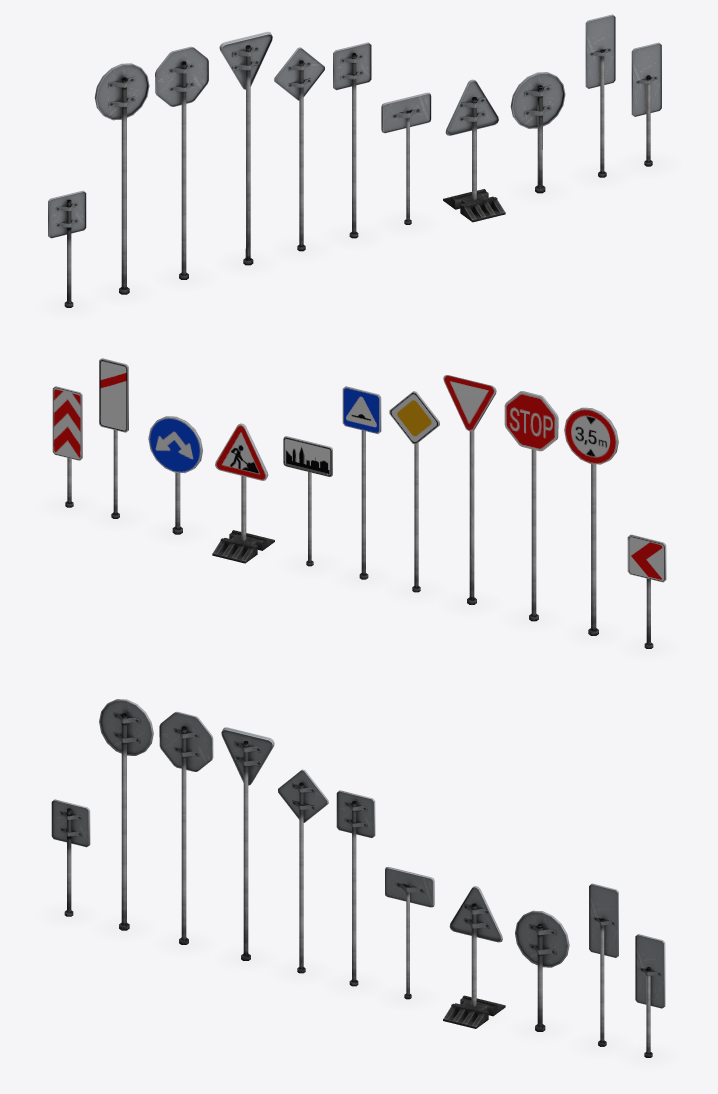
File: road_signs.glb
The picture shows the model from 3 angles, top to bottom: view 1: azimuth 30°, elevation 25°; view 2: azimuth 150°, elevation 25°; view 3: azimuth 330°, elevation 25°; orthographic projection.
Visible parts, largest first — view 1: Priority_Stop_LOD0, Prohibition_MaximumHeight_LOD0, WarningTemporary_RoadWorks_LOD0, MandatorySmall_BothSides_LOD0, Priority_GiveWay_LOD0, Warning_DistanceMarker1_LOD0, Warning_ObstacleMiddle_LOD0, Informational_Bump_LOD0, Priority_MainRoad_LOD0, LocalSigns_CityArea_LOD0, Warning_TurnLeft_LOD0, Plane.004 (+9 smaller); view 2: Priority_Stop_LOD0, Prohibition_MaximumHeight_LOD0, WarningTemporary_RoadWorks_LOD0, MandatorySmall_BothSides_LOD0, Priority_GiveWay_LOD0, Warning_DistanceMarker1_LOD0, Warning_ObstacleMiddle_LOD0, Informational_Bump_LOD0, Priority_MainRoad_LOD0, Warning_TurnLeft_LOD0, LocalSigns_CityArea_LOD0, Plane.004 (+9 smaller); view 3: Priority_Stop_LOD0, Prohibition_MaximumHeight_LOD0, WarningTemporary_RoadWorks_LOD0, Priority_GiveWay_LOD0, MandatorySmall_BothSides_LOD0, Warning_DistanceMarker1_LOD0, Warning_ObstacleMiddle_LOD0, Informational_Bump_LOD0, Priority_MainRoad_LOD0, Warning_TurnLeft_LOD0, LocalSigns_CityArea_LOD0, Plane.004.
Part boxes in pixels (bbox=[...]): Priority_Stop_LOD0: bbox=[155, 46, 208, 279]; Prohibition_MaximumHeight_LOD0: bbox=[94, 63, 149, 294]; WarningTemporary_RoadWorks_LOD0: bbox=[443, 79, 505, 222]; MandatorySmall_BothSides_LOD0: bbox=[510, 72, 565, 193]; Priority_GiveWay_LOD0: bbox=[219, 31, 272, 265]; Warning_DistanceMarker1_LOD0: bbox=[585, 14, 615, 177]; Warning_ObstacleMiddle_LOD0: bbox=[631, 42, 661, 166]; Informational_Bump_LOD0: bbox=[333, 42, 371, 238]; Priority_MainRoad_LOD0: bbox=[274, 47, 324, 251]; LocalSigns_CityArea_LOD0: bbox=[381, 92, 431, 224]; Warning_TurnLeft_LOD0: bbox=[48, 190, 86, 307]; Plane.004: bbox=[385, 215, 428, 232]; Priority_Stop_LOD0: bbox=[504, 391, 558, 621]; Prohibition_MaximumHeight_LOD0: bbox=[564, 407, 618, 635]; WarningTemporary_RoadWorks_LOD0: bbox=[212, 423, 274, 563]; MandatorySmall_BothSides_LOD0: bbox=[148, 416, 202, 534]; Priority_GiveWay_LOD0: bbox=[443, 375, 496, 604]; Warning_DistanceMarker1_LOD0: bbox=[99, 358, 128, 518]; Warning_ObstacleMiddle_LOD0: bbox=[52, 386, 82, 507]; Informational_Bump_LOD0: bbox=[342, 386, 381, 579]; Priority_MainRoad_LOD0: bbox=[389, 391, 439, 592]; Warning_TurnLeft_LOD0: bbox=[627, 534, 666, 648]; LocalSigns_CityArea_LOD0: bbox=[283, 436, 332, 566]; Plane.004: bbox=[289, 556, 332, 574]; Priority_Stop_LOD0: bbox=[159, 711, 213, 944]; Prohibition_MaximumHeight_LOD0: bbox=[99, 699, 153, 930]; WarningTemporary_RoadWorks_LOD0: bbox=[443, 886, 505, 1028]; Priority_GiveWay_LOD0: bbox=[221, 727, 274, 960]; MandatorySmall_BothSides_LOD0: bbox=[515, 910, 569, 1031]; Warning_DistanceMarker1_LOD0: bbox=[589, 883, 618, 1046]; Warning_ObstacleMiddle_LOD0: bbox=[635, 934, 665, 1057]; Informational_Bump_LOD0: bbox=[336, 790, 375, 986]; Priority_MainRoad_LOD0: bbox=[278, 769, 328, 973]; Warning_TurnLeft_LOD0: bbox=[51, 799, 90, 916]; LocalSigns_CityArea_LOD0: bbox=[385, 866, 434, 999]; Plane.004: bbox=[385, 988, 428, 1006].
Size of the model in its own units: 864 by 289 by 92.67.
Materials: 4 (4 with a texture image).
